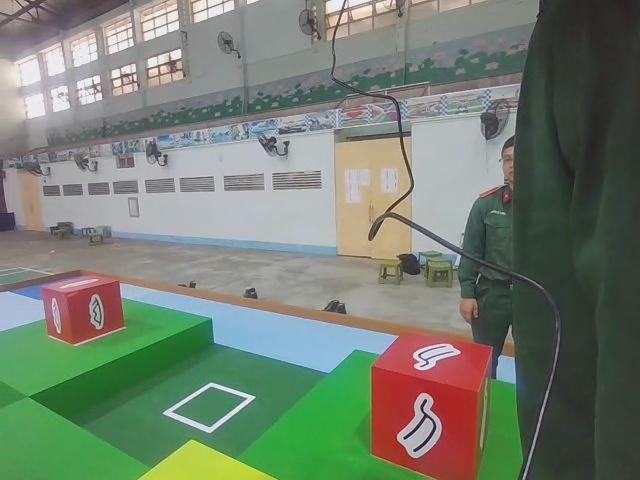R2 Real: (369, 330, 495, 474), (41, 278, 128, 346)
